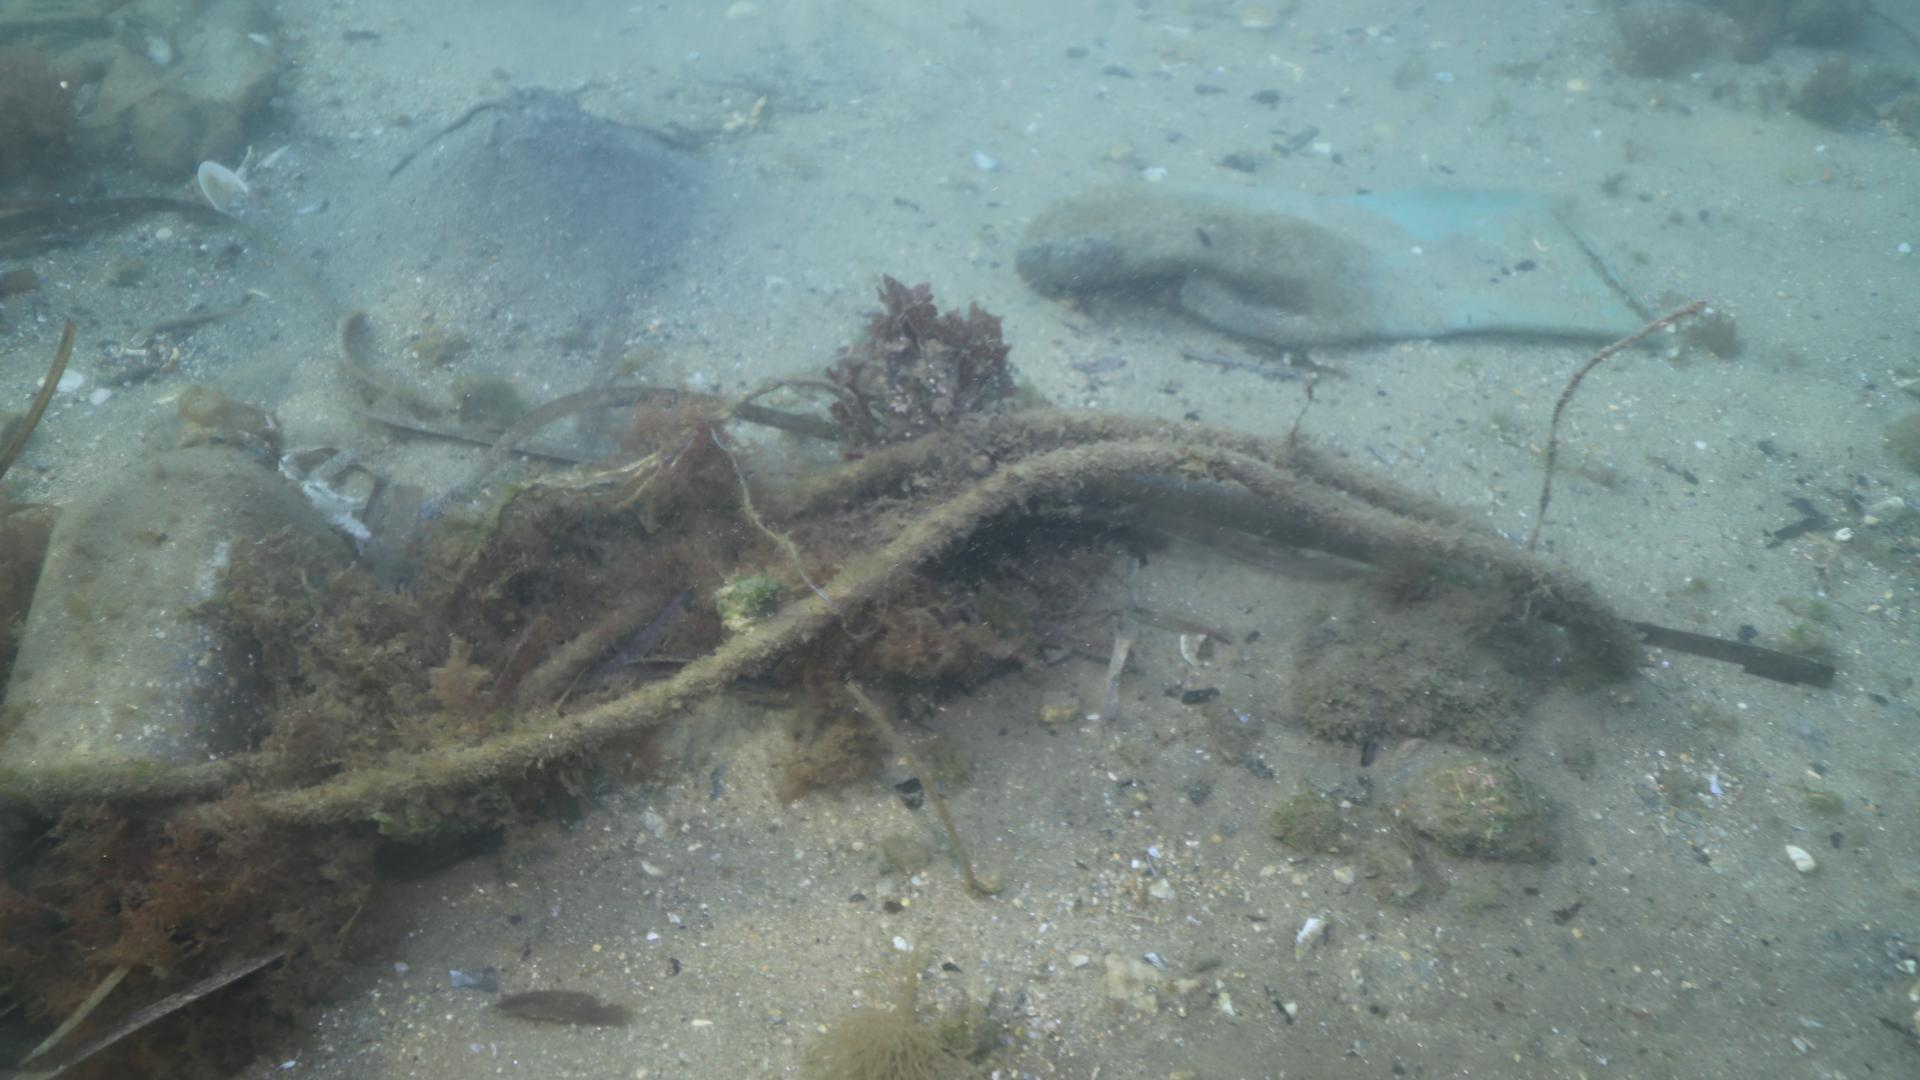bundle of ropes: (0, 404, 1635, 827)
